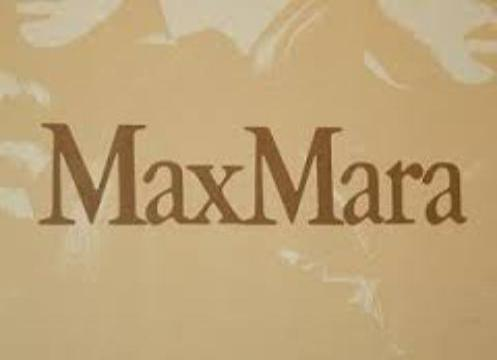MAX-MARA: (36, 119, 469, 224)
